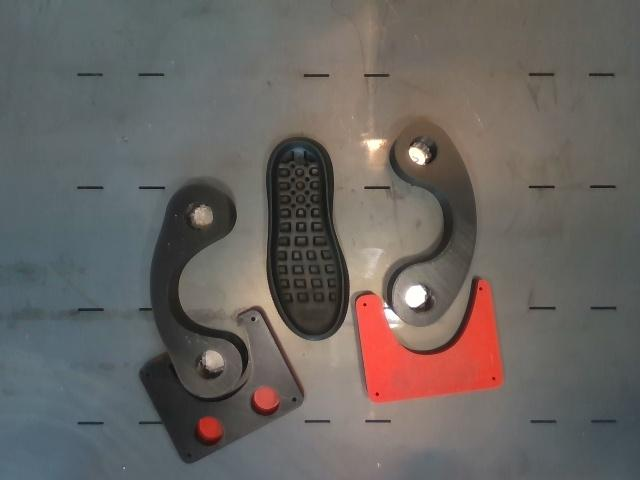shoes: (270, 141, 343, 335)
